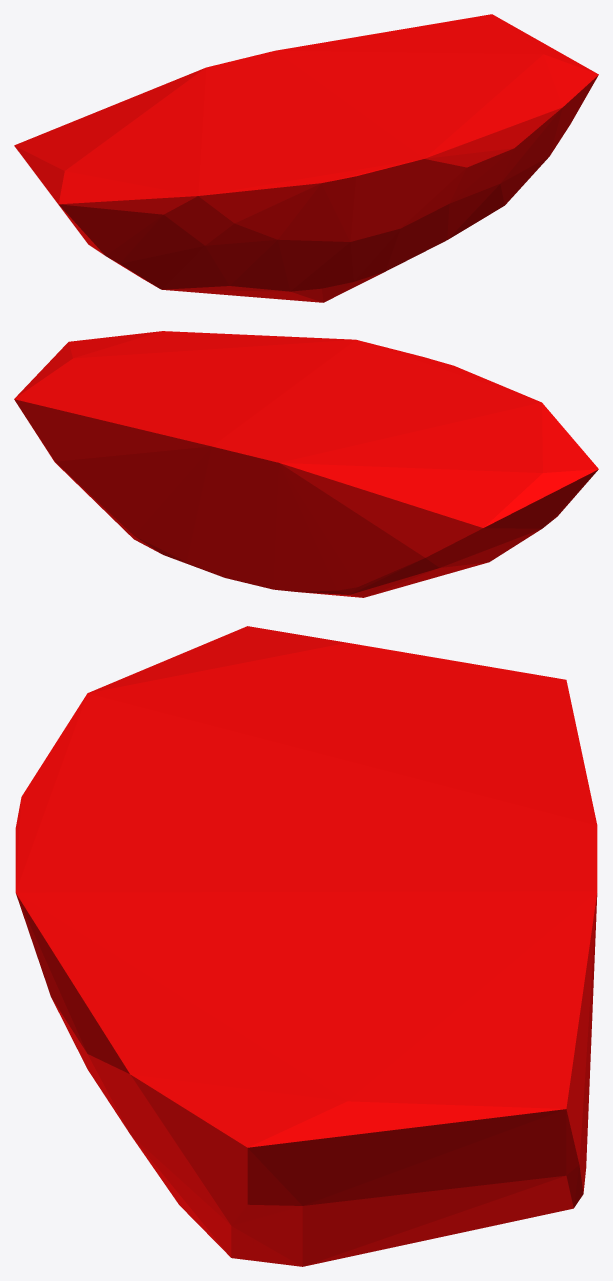
Rendered from tip_006_1_convex_hull_00.obj.
The picture shows the model from 3 angles, top to bottom: view 1: azimuth 30°, elevation 25°; view 2: azimuth 150°, elevation 25°; view 3: azimuth 270°, elevation 25°; orthographic projection. The views are drawn at different scales.
Parts seen in each view (by area): view 1: tip_006_1_convex_hull_00; view 2: tip_006_1_convex_hull_00; view 3: tip_006_1_convex_hull_00.
Boxes of the visible parts, bbox=[...] form: tip_006_1_convex_hull_00: bbox=[14, 14, 598, 302]; tip_006_1_convex_hull_00: bbox=[14, 331, 598, 597]; tip_006_1_convex_hull_00: bbox=[15, 626, 597, 1266].
Bounding box in the file's own units: 0.00416 × 0.0013 × 0.00197.
